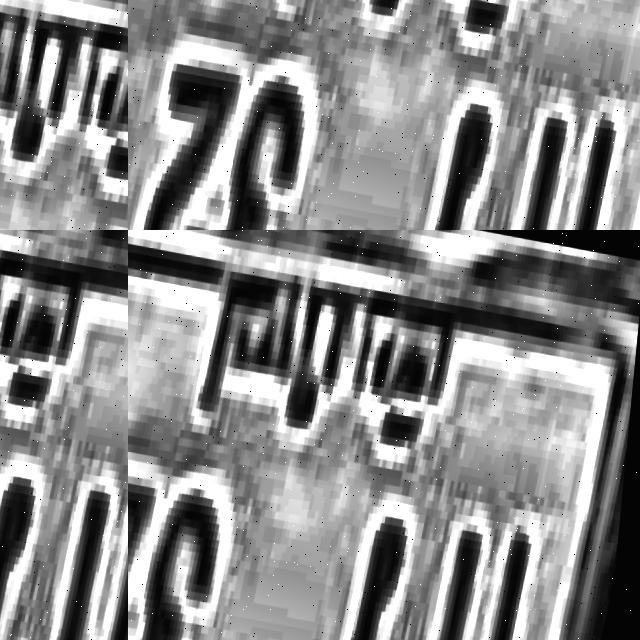license-plate: (128, 230, 640, 640), (0, 230, 128, 640), (0, 0, 128, 230)
